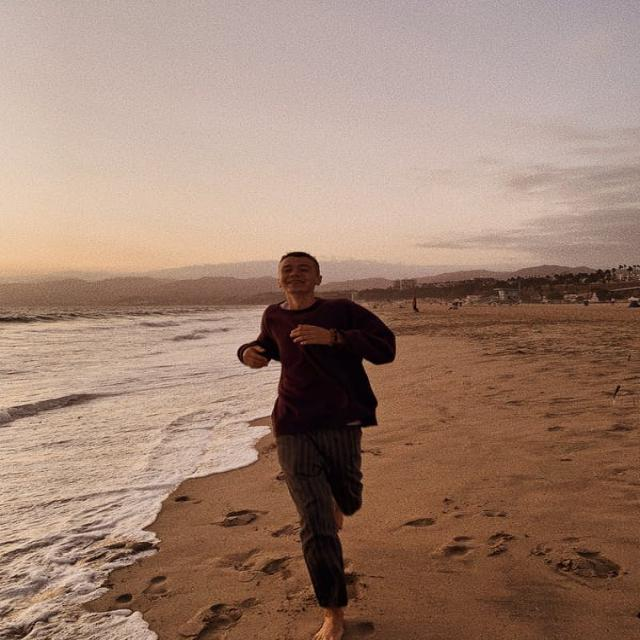running: (234, 244, 400, 640)
